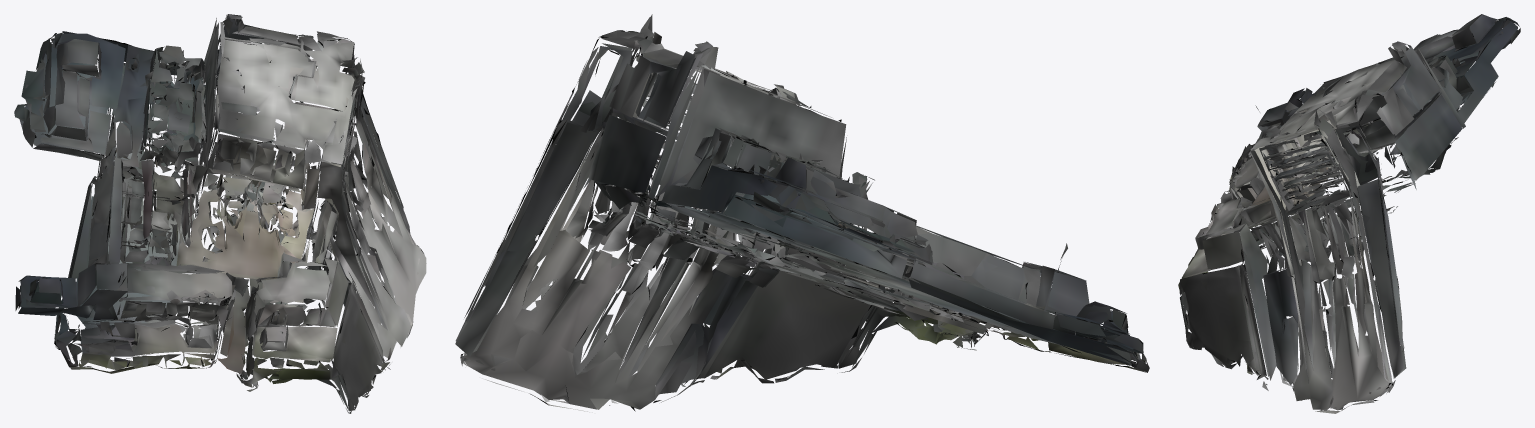
File: morak-refinery.lo.glb
3 renders of one model, left to right at view 1: azimuth 30°, elevation 25°; view 2: azimuth 150°, elevation 25°; view 3: azimuth 270°, elevation 25°, orthographic. The views are drawn at different scales.
Visible parts, largest first — view 1: low; view 2: low; view 3: low.
Boxes of the visible parts, box(x1,y1,x2,y2) form: low: box(14, 14, 426, 413); low: box(455, 14, 1149, 412); low: box(1178, 14, 1520, 413).
Bounding box in the file's own units: 0.9305 × 0.6499 × 0.6471.
1 material, 1 textured.
